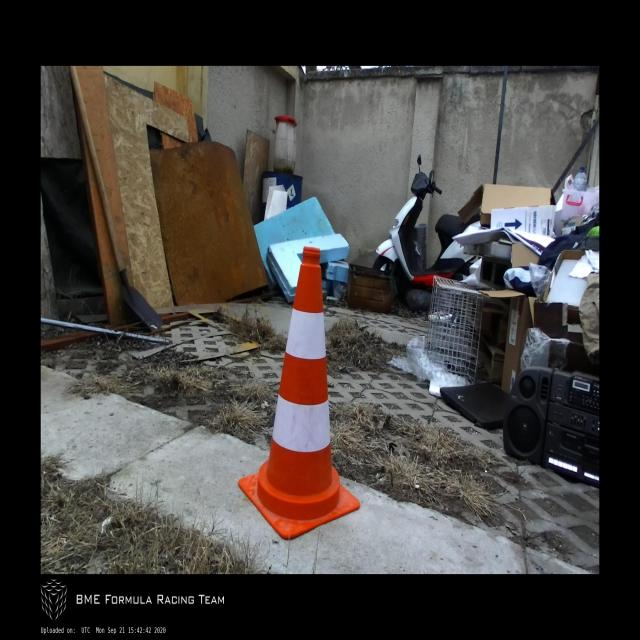large_orange_cone: (238, 246, 360, 540)
